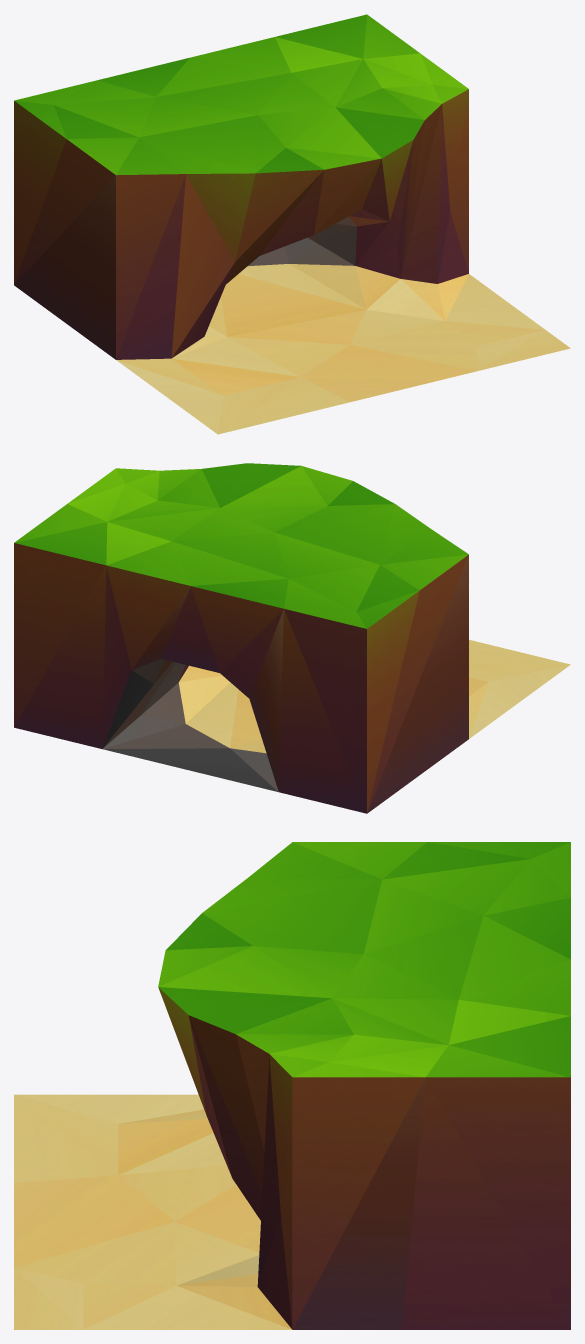
Rendered from GL-Terrain-part-15-LOD3.fbx.
The picture shows the model from 3 angles, top to bottom: view 1: azimuth 30°, elevation 25°; view 2: azimuth 150°, elevation 25°; view 3: azimuth 270°, elevation 25°; orthographic projection. The views are drawn at different scales.
Visible parts, largest first — view 1: GL_Terrain_part_15; view 2: GL_Terrain_part_15; view 3: GL_Terrain_part_15.
Part boxes in pixels (left/top/right/bottom): GL_Terrain_part_15: left=14, top=14, right=570, bottom=434; GL_Terrain_part_15: left=14, top=463, right=570, bottom=813; GL_Terrain_part_15: left=14, top=842, right=570, bottom=1329.
Size of the model in its own units: 6 by 3 by 6.
